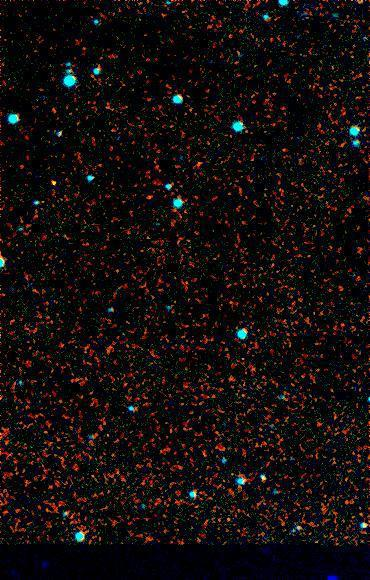star: (38, 169, 68, 199)
